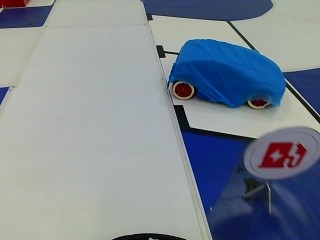battery: (248, 135, 311, 180)
car: (157, 37, 290, 111)
